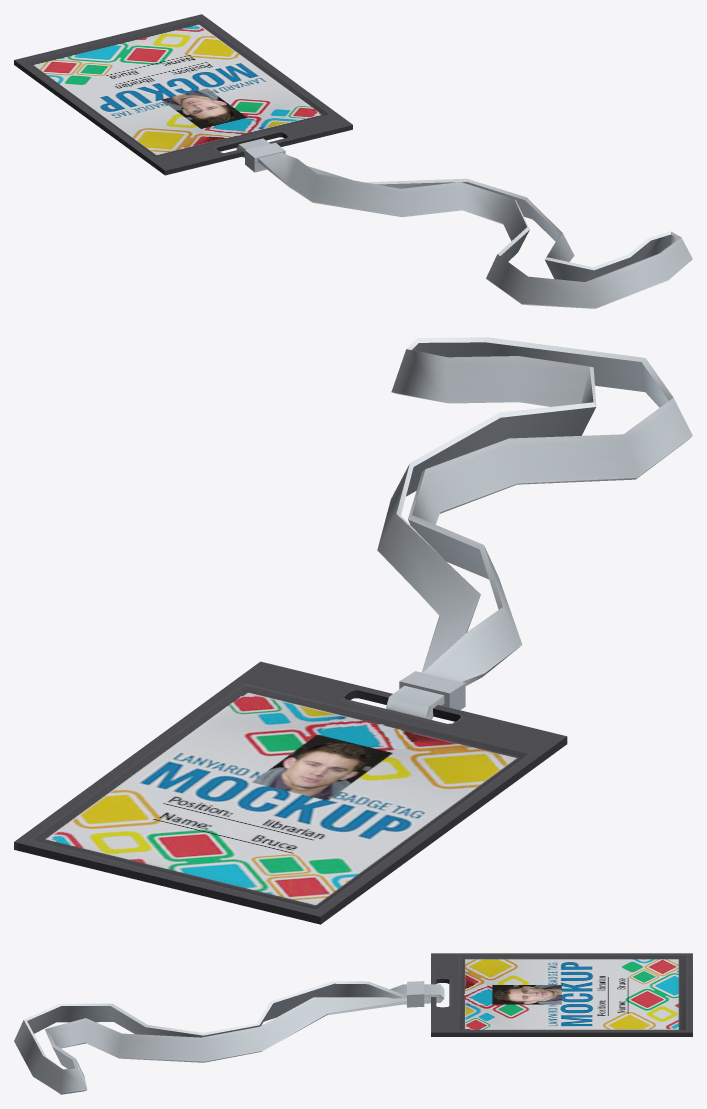
The model's file is ZhiBanShi_01_gongzuoka_01.FBX.
The picture shows the model from 3 angles, top to bottom: view 1: azimuth 30°, elevation 25°; view 2: azimuth 150°, elevation 25°; view 3: azimuth 270°, elevation 25°; orthographic projection. The views are drawn at different scales.
Visible parts, largest first — view 1: ZhiBanShi_shenfenpaii_01; view 2: ZhiBanShi_shenfenpaii_01; view 3: ZhiBanShi_shenfenpaii_01.
Part boxes in pixels (<box>): ZhiBanShi_shenfenpaii_01: <box>14,14,692,308</box>; ZhiBanShi_shenfenpaii_01: <box>14,337,692,924</box>; ZhiBanShi_shenfenpaii_01: <box>14,953,692,1094</box>.
Bounding box in the file's own units: 100 × 7.94 × 217.
